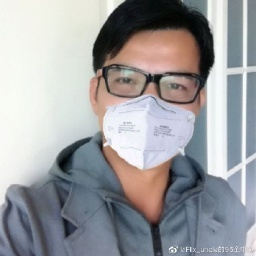correctlyWear: (88, 57, 206, 171)
